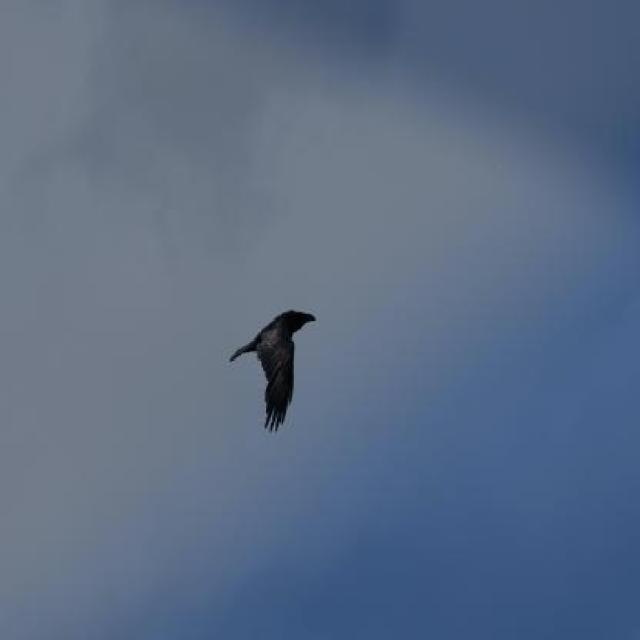bird: (230, 309, 316, 434)
